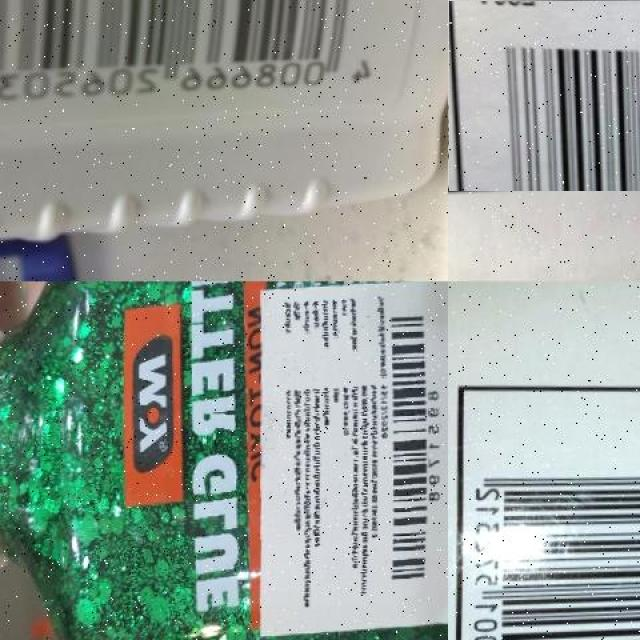Barcode: (451, 372, 640, 640), (0, 0, 399, 112), (449, 0, 640, 191), (380, 306, 444, 593)
